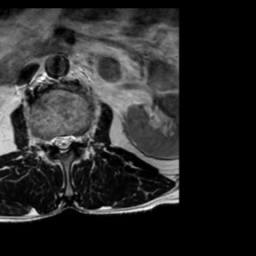CCS_normal: (60, 127, 67, 159)
LFS_normal: (75, 126, 83, 150)
LLS_normal: (67, 127, 75, 155)
RFS_normal: (44, 129, 52, 153)
RLS_normal: (52, 128, 60, 151)
